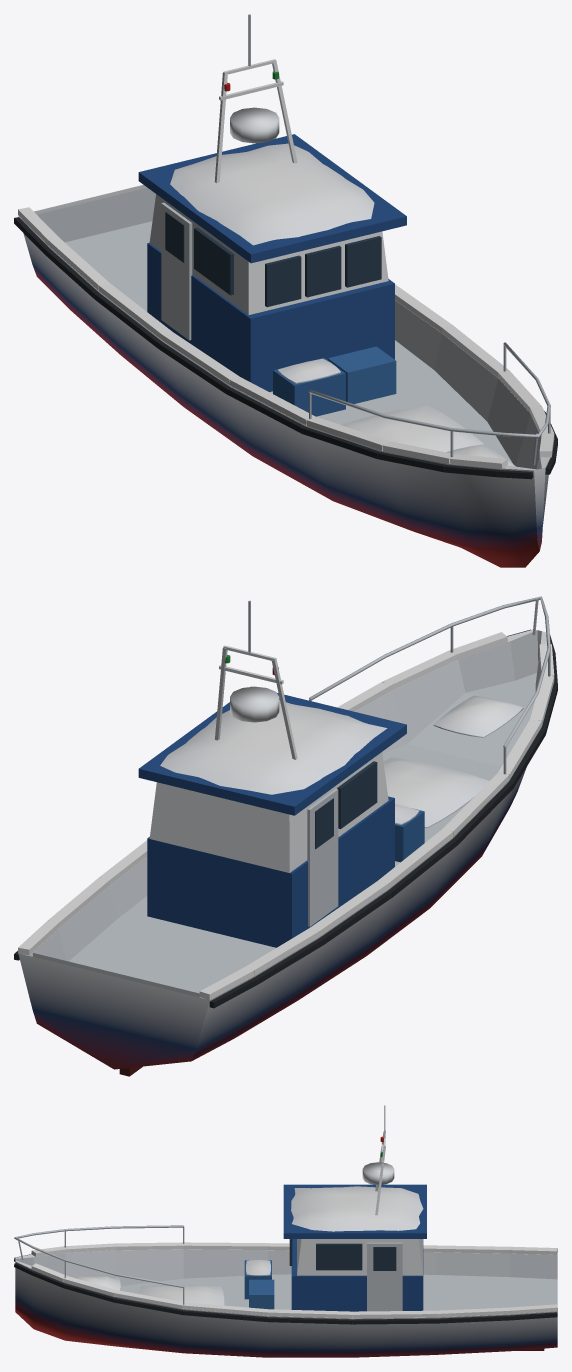
File: boat.glb
3 renders of one model, top to bottom at view 1: azimuth 30°, elevation 25°; view 2: azimuth 150°, elevation 25°; view 3: azimuth 270°, elevation 25°, orthographic. The views are drawn at different scales.
Parts seen in each view (by area): view 1: boat; view 2: boat; view 3: boat.
Boxes of the visible parts, x1=… form: boat: x1=14, y1=14, x2=557, y2=567; boat: x1=14, y1=596, x2=557, y2=1076; boat: x1=14, y1=1105, x2=557, y2=1357.
Bounding box in the file's own units: 3.28 × 5.11 × 10.33.
